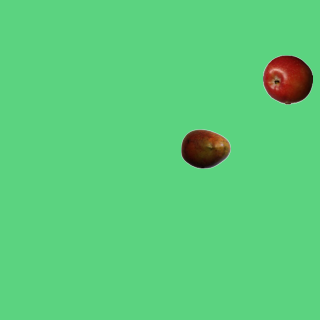Apple Braeburn: (262, 54, 312, 104)
Mango Red: (180, 123, 230, 173)
